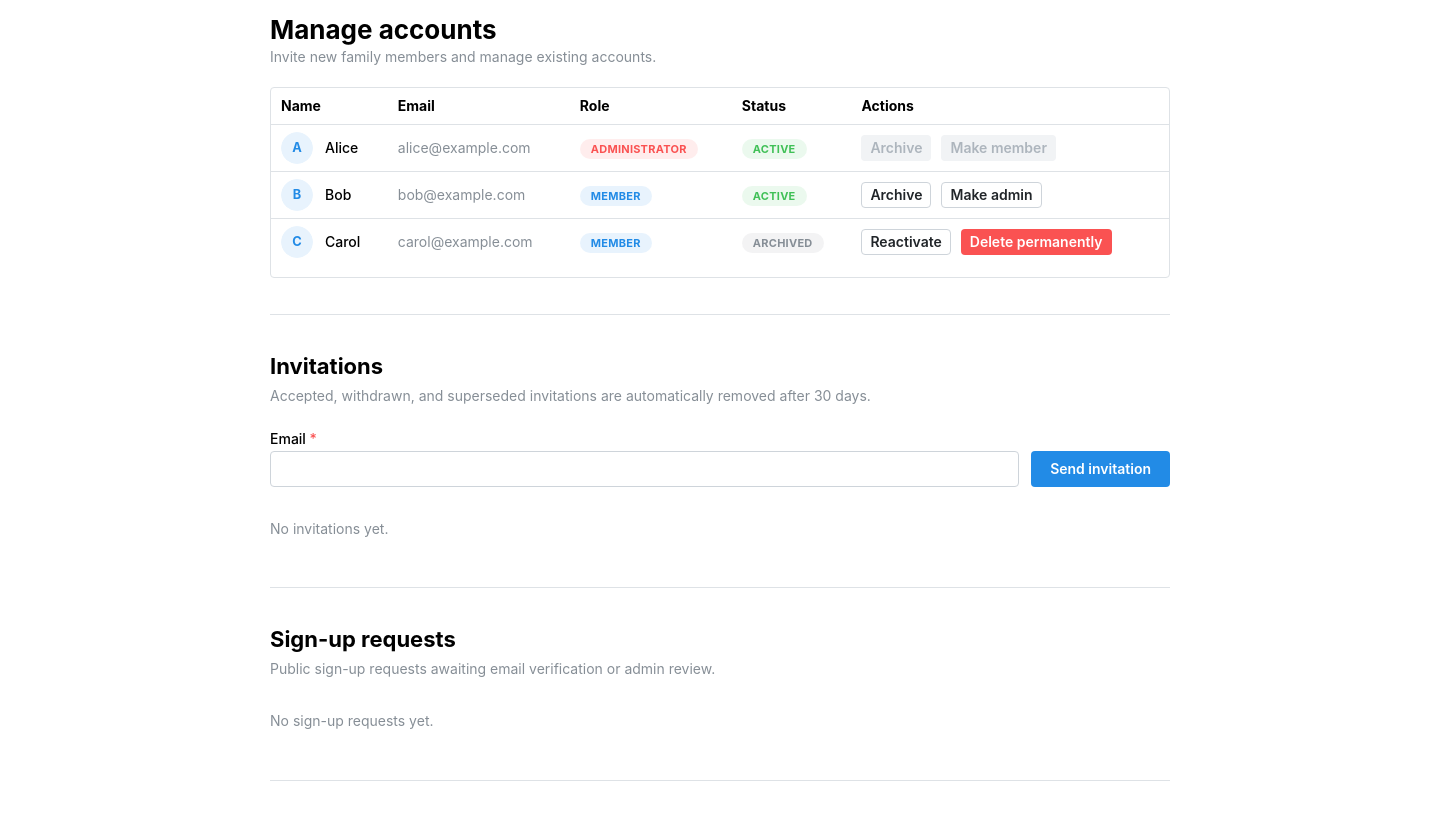
Test case: AccountsAdmin – InviteForm › shows a success toast when invitation is sent
Type "new@example.com" into the field labelled "Email *". click: (645, 469)
box: [270,451,1019,487]
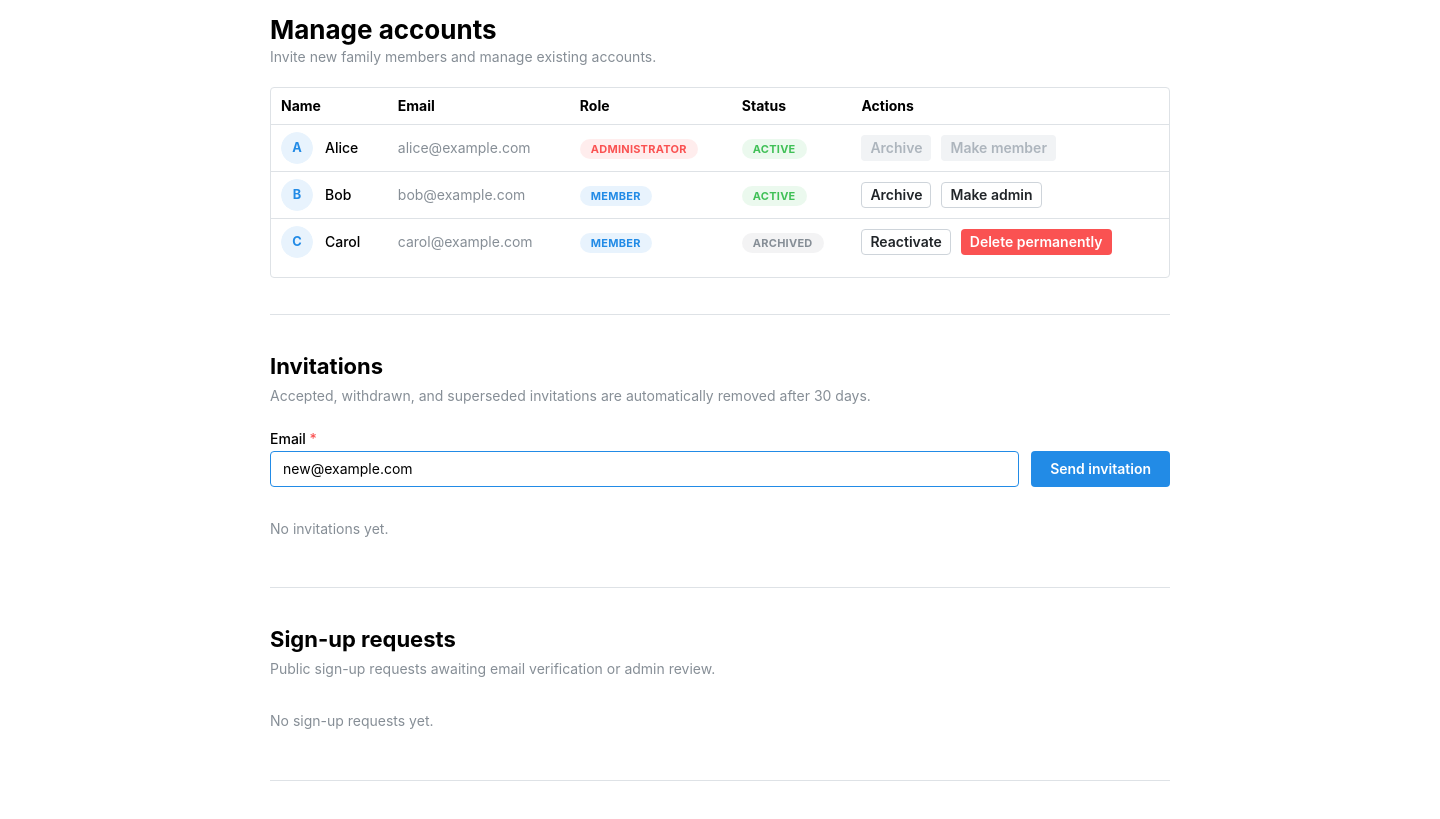
Click the button "Send invitation". click: click(1101, 469)
box: [1031,451,1170,487]
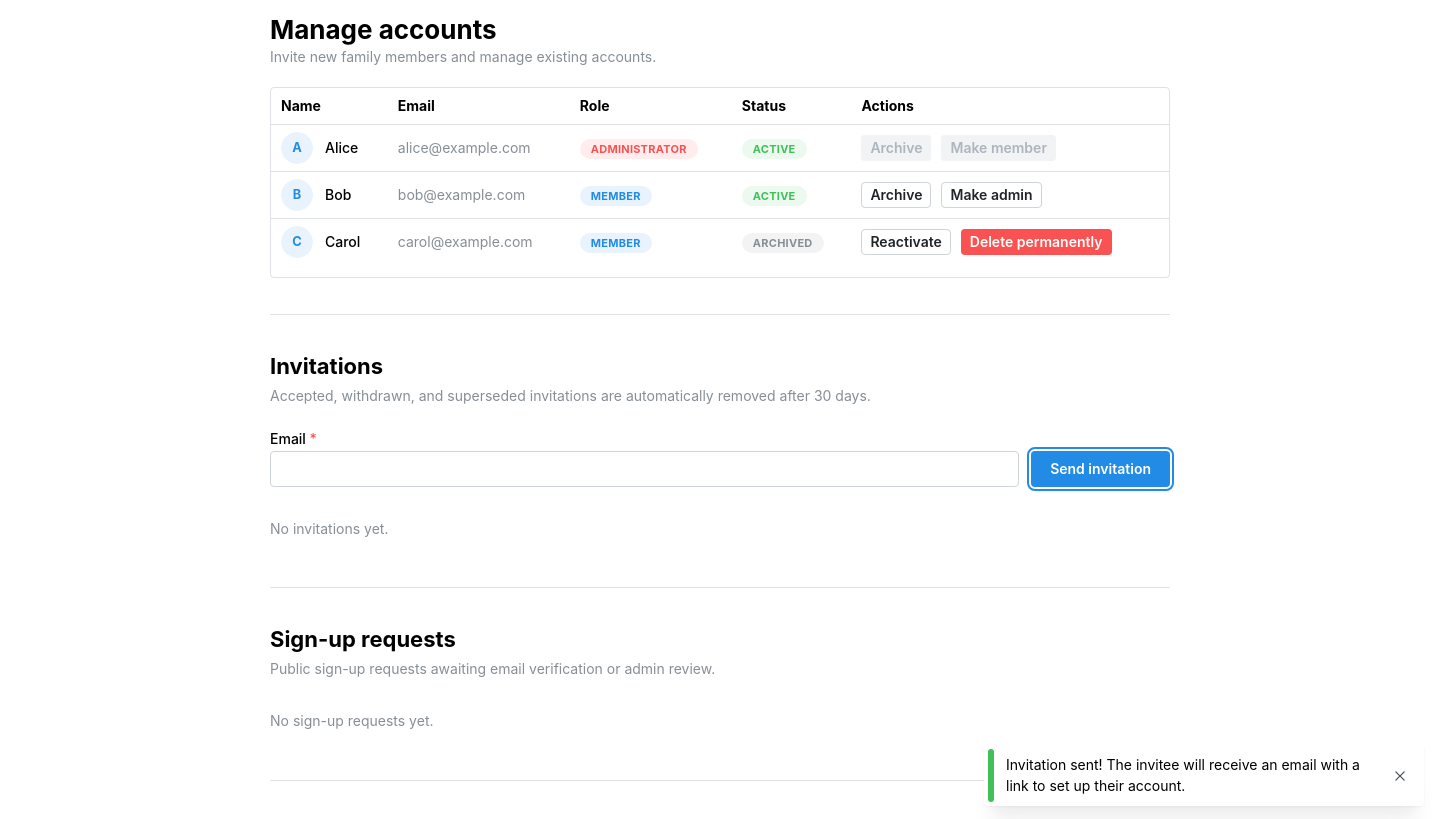
Expected: the text "Invitation sent" is shown, [1006,756,1360,794]
